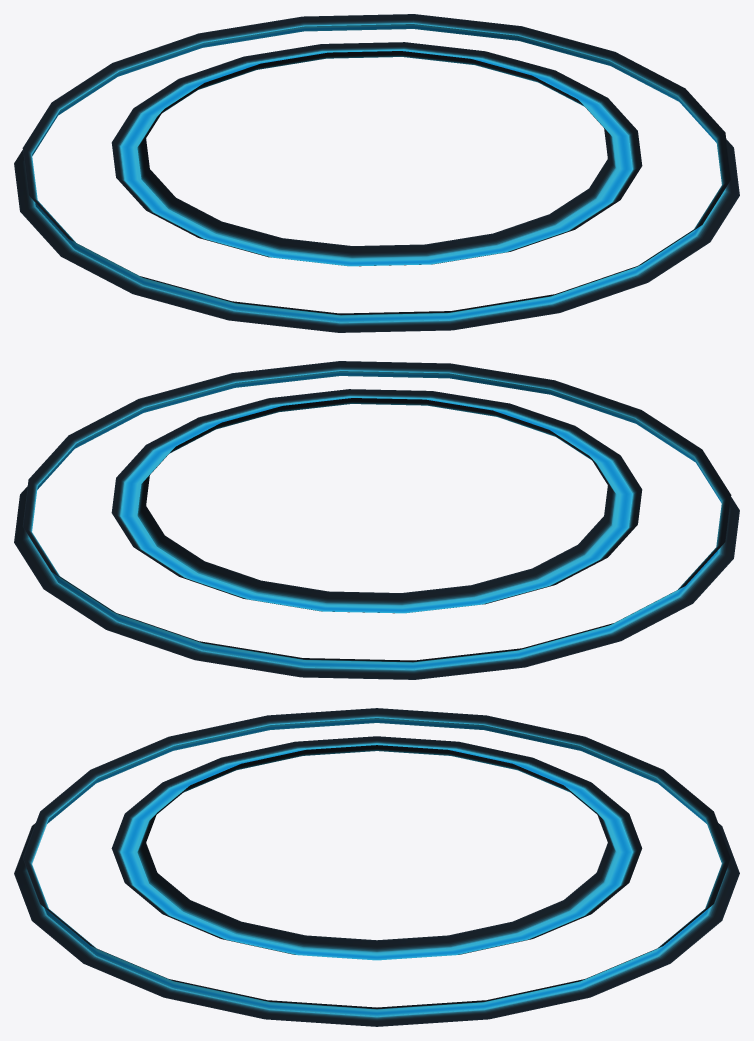
Rendered from ts_zjmckt002.FBX.
3 views of the same model, one above another, from view 1: azimuth 30°, elevation 25°; view 2: azimuth 150°, elevation 25°; view 3: azimuth 270°, elevation 25° (orthographic).
Parts seen in each view (by area): view 1: ts_zjmckt002; view 2: ts_zjmckt002; view 3: ts_zjmckt002.
Boxes of the visible parts, left/top/right/bottom form: ts_zjmckt002: left=14, top=14, right=739, bottom=332; ts_zjmckt002: left=14, top=361, right=739, bottom=679; ts_zjmckt002: left=14, top=708, right=739, bottom=1026.
Size of the model in its own units: 3.49 by 0.1638 by 3.49.
